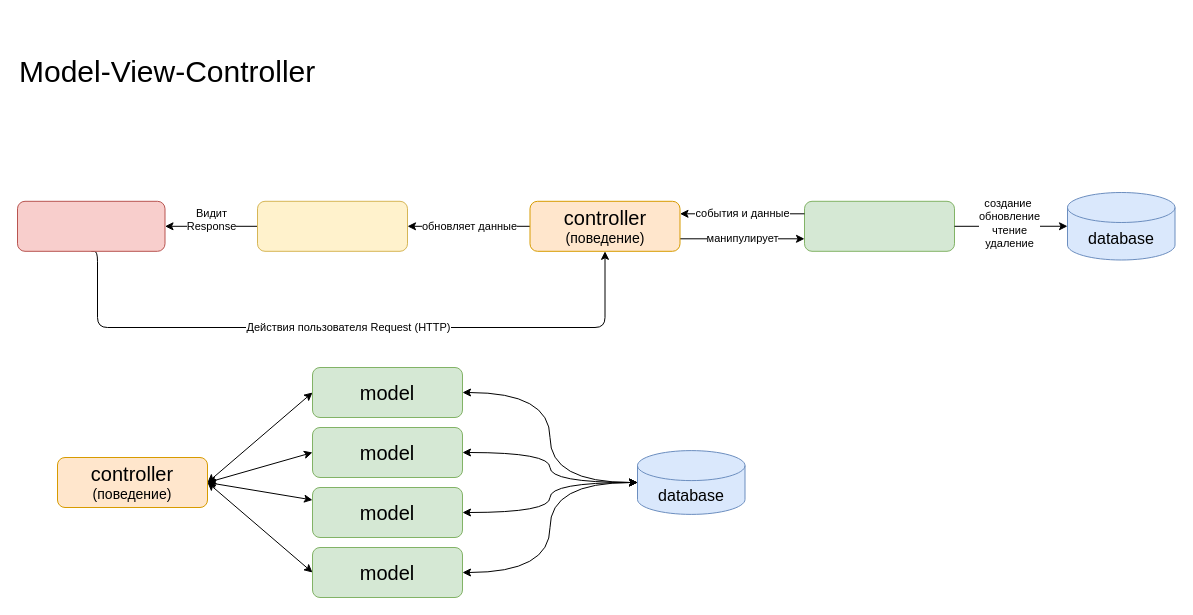
Some shapes in this 1193 by 615 pixel diagram are drawn without their labels. The shapes that lost their labels are listed below. From the top down, each one's centre as x and y in pixels, then its label:
point 90,225: user
point 332,225: view UI (представление)
point 879,225: model Data Logic
